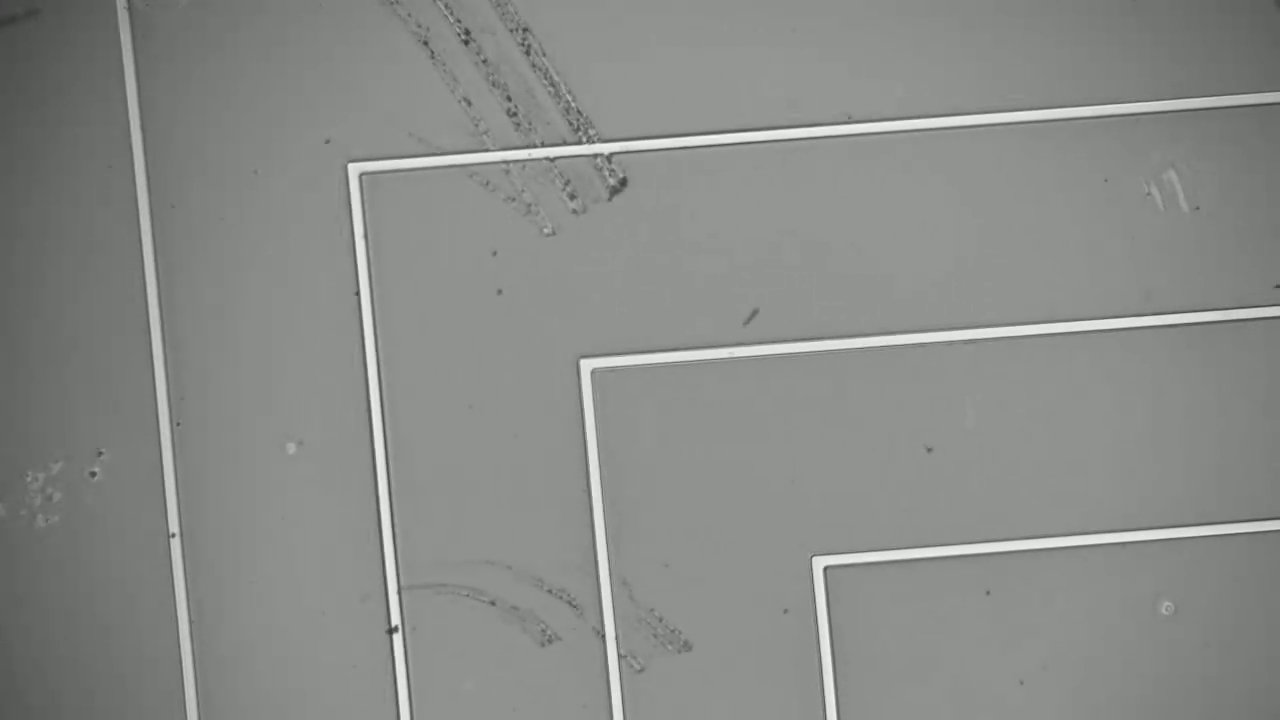scratch: (384, 1, 647, 240)
stains_enbedded: (380, 616, 418, 646)
